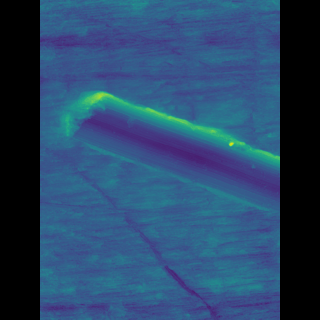Loch: (82, 89, 250, 215)
